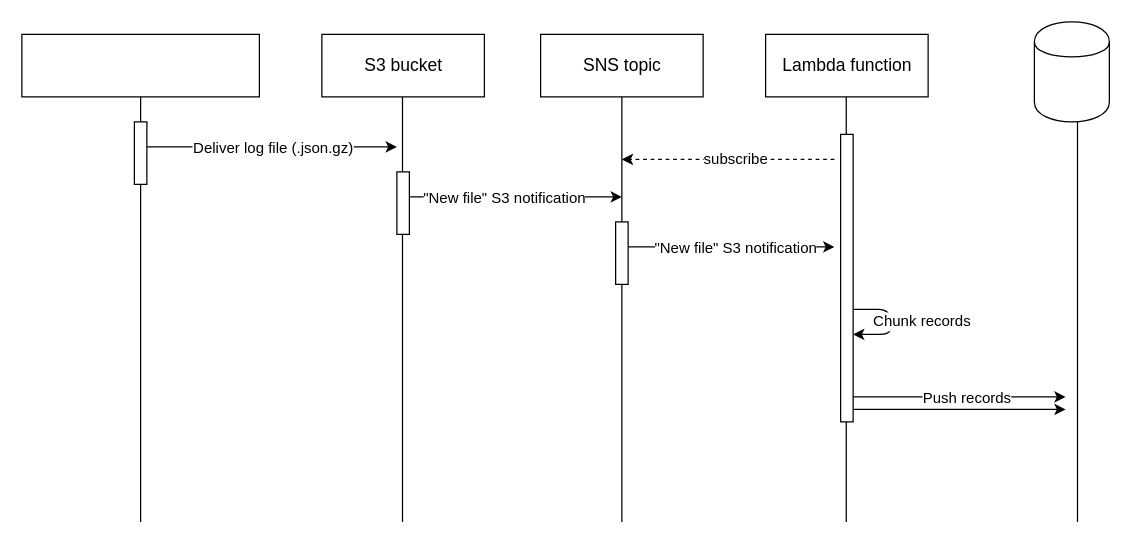
The diagram is 1131 pixels wide and 545 high, and some of its shapes have lost their labels. The centre of each missing label's shape, as x and y in pixels:
"CloudTrail delivery service" goes at point 140,65.
"Kinesis stream" goes at point 1071,71.
